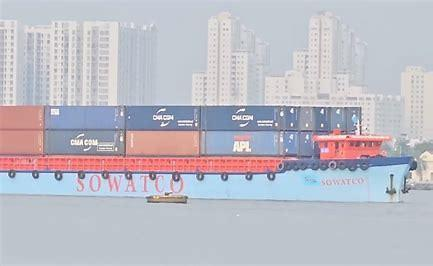Ship: (1, 103, 420, 208)
